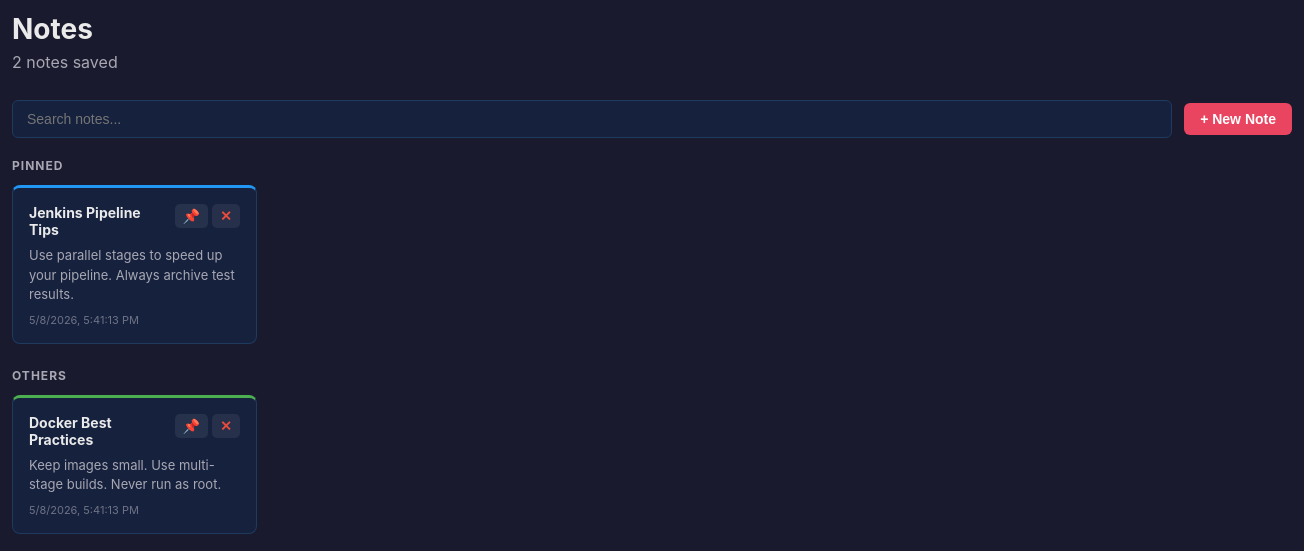
Test case: filters notes by search
This screenshot has width=1304, height=551.
Type "docker" into the field labelled "Search notes...". click: (592, 119)
box: [12,100,1172,138]
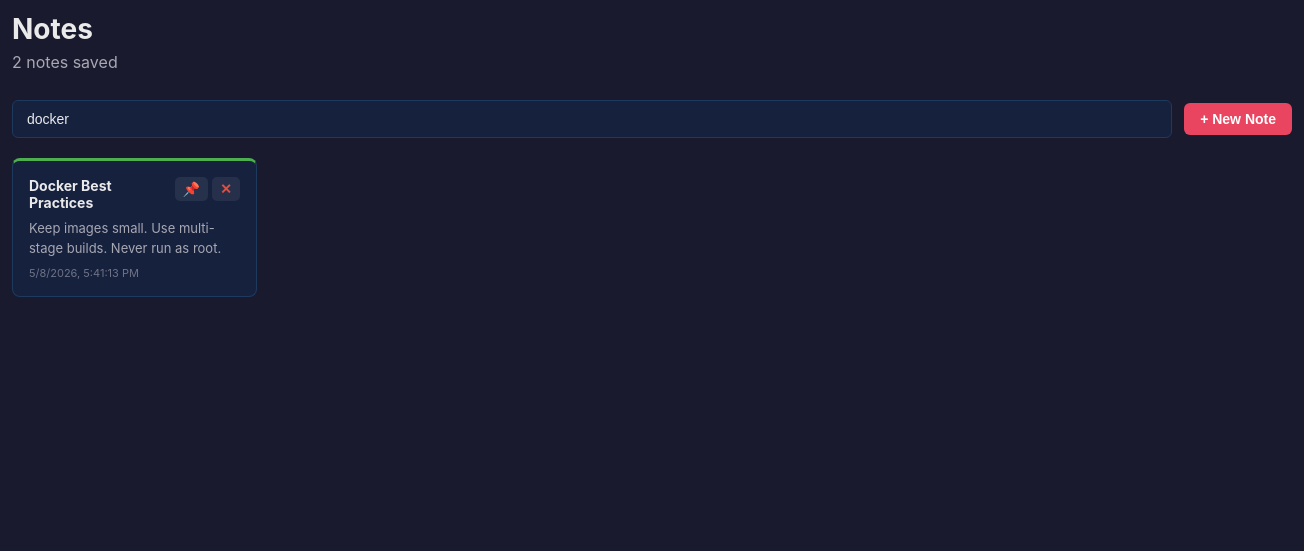
expect the heading "Docker Best Practices" is shown: met, box [29,177,112,211]
expect the heading "Jenkins Pipeline Tips" is gone: met
